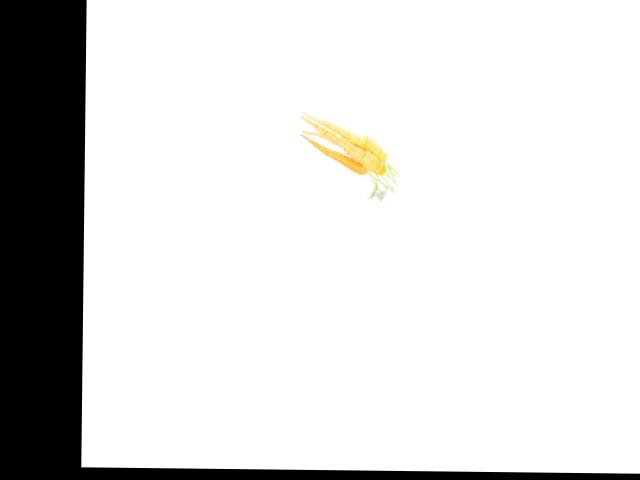carrot: (300, 110, 392, 162)
